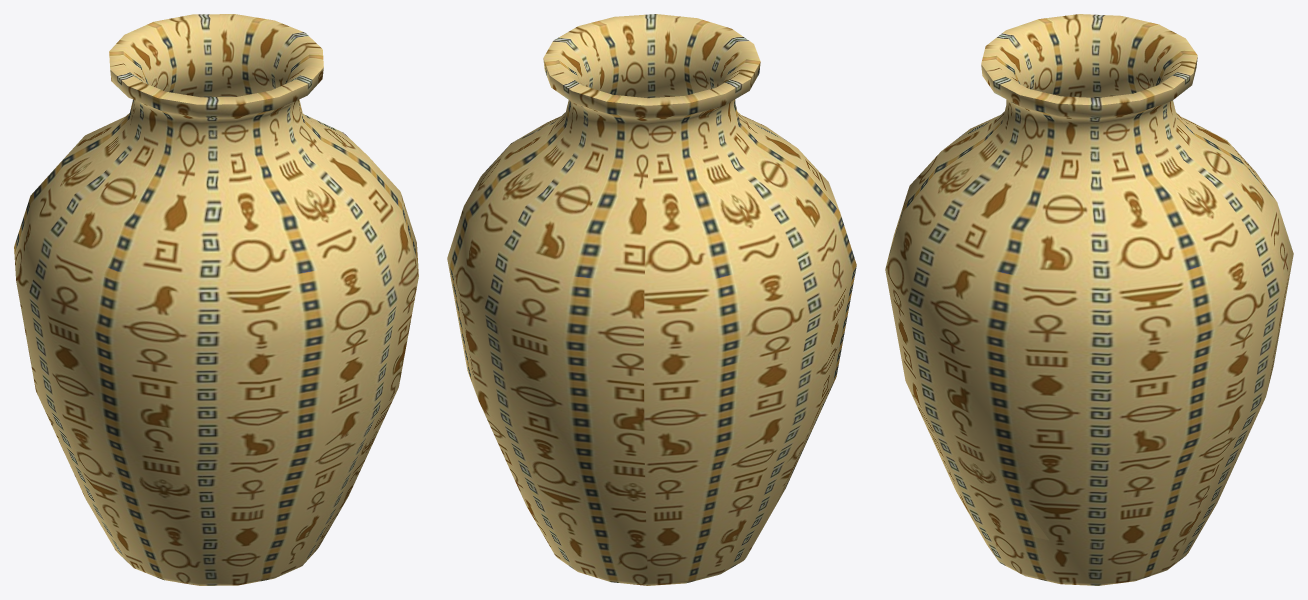
File: vase4.fbx
3 views of the same model, side by side, from view 1: azimuth 30°, elevation 25°; view 2: azimuth 150°, elevation 25°; view 3: azimuth 270°, elevation 25° (orthographic).
Parts seen in each view (by area): view 1: Vase_4; view 2: Vase_4; view 3: Vase_4.
Part boxes in pixels (x1=…): Vase_4: x1=14, y1=14, x2=418, y2=585; Vase_4: x1=447, y1=14, x2=856, y2=585; Vase_4: x1=885, y1=14, x2=1293, y2=585.
Size of the model in its own units: 25.38 by 33.4 by 25.38.
